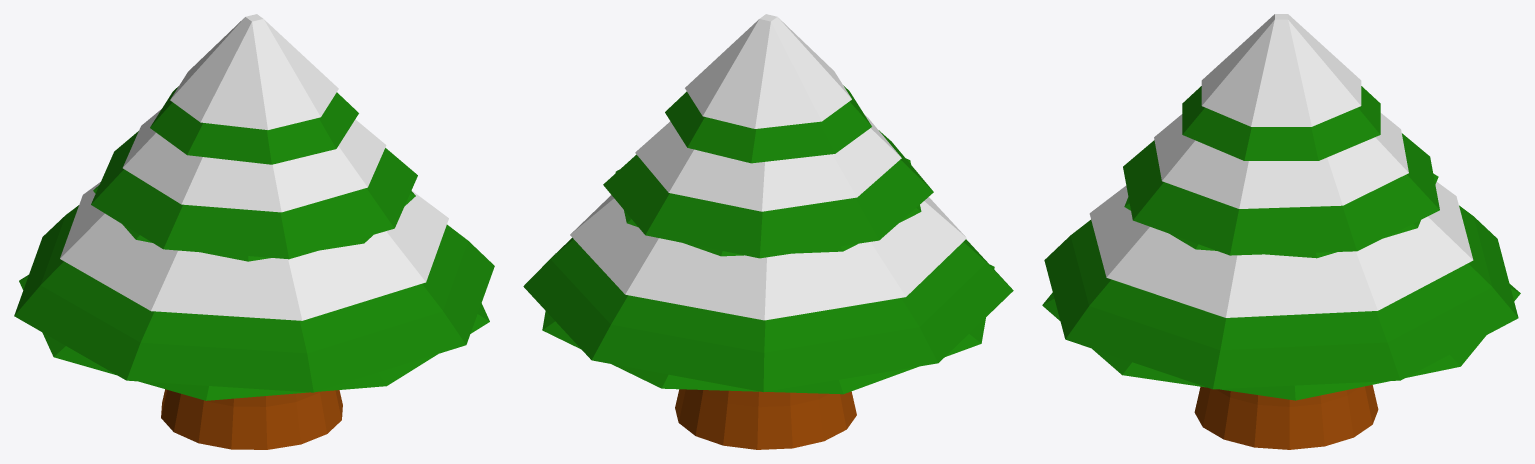
The model's file is tree.fbx.
The picture shows the model from 3 angles, left to right: view 1: azimuth 30°, elevation 25°; view 2: azimuth 150°, elevation 25°; view 3: azimuth 270°, elevation 25°; orthographic projection.
Visible parts, largest first — view 1: Cube, Cube.001; view 2: Cube, Cube.001; view 3: Cube, Cube.001.
Boxes of the visible parts, x1,y1,x2,y2 form: Cube: (14,86,494,449); Cube.001: (60,14,448,320); Cube: (523,85,1013,449); Cube.001: (570,14,966,320); Cube: (1042,86,1520,449); Cube.001: (1089,14,1473,317).
Bounding box in the file's own units: 236 × 215 × 236.
